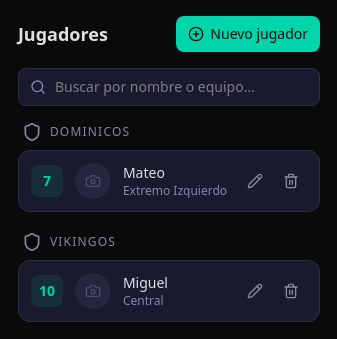
Scenario: AdminJugadoresPage › filters players by name
The image size is (337, 339).
Expected: the text "Mateo" is shown, [123,163,165,182]
Expected: the text "Miguel" is shown, [123,273,168,292]
Type "Mateo" into the field with placeholder "Buscar por nombre o equipo…". click: (169, 87)
box: [18,68,320,106]
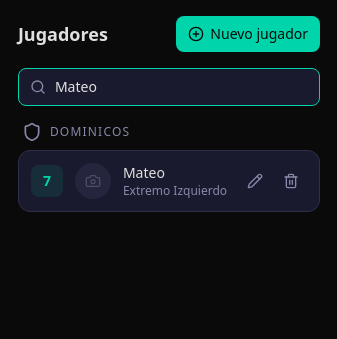
Expected: the text "Mateo" is shown, [123,163,165,182]
Expected: the link "Miguel" is gone
